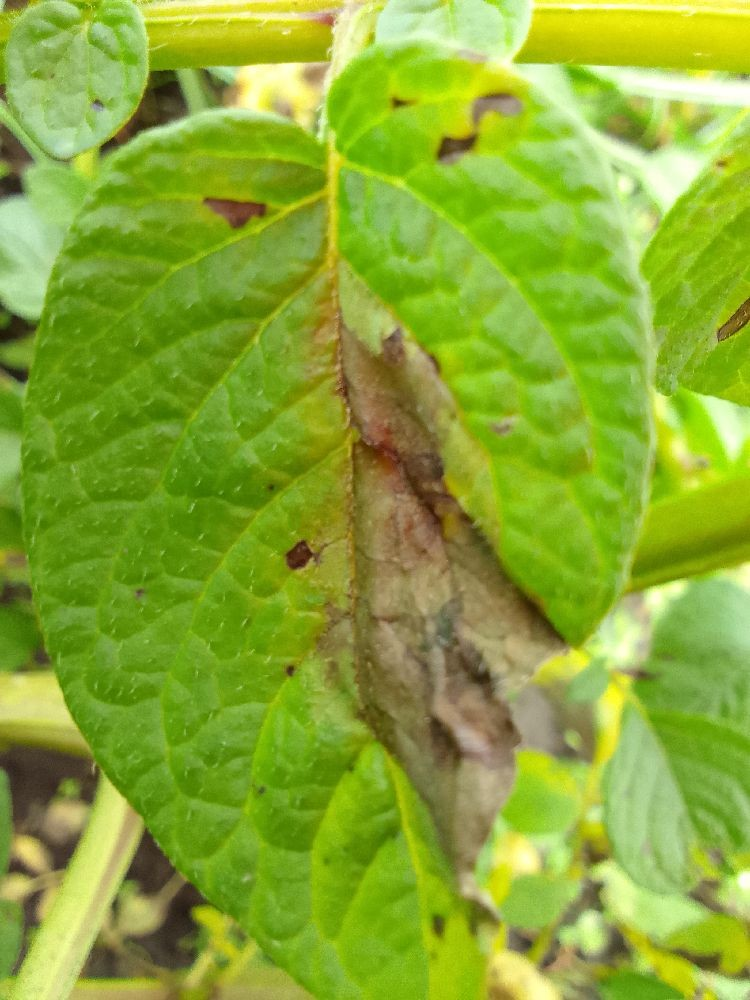late_blight: (267, 221, 613, 930), (0, 708, 128, 1000), (89, 61, 198, 166), (0, 295, 47, 393)
